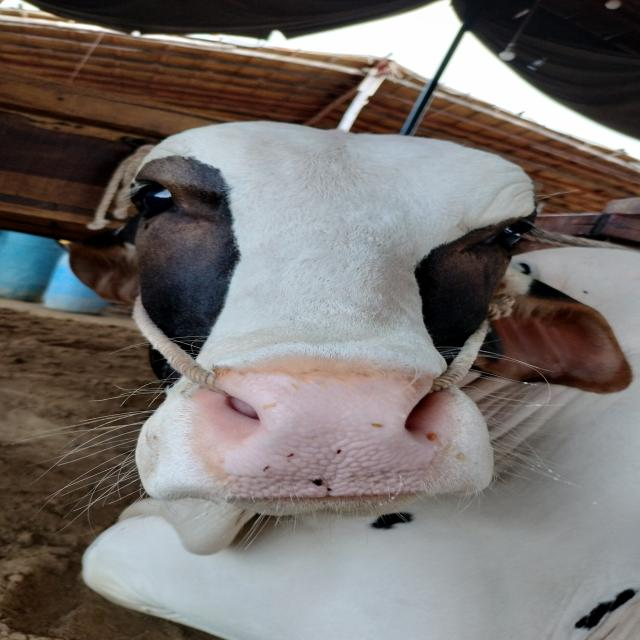muzzles: (162, 354, 488, 516)
